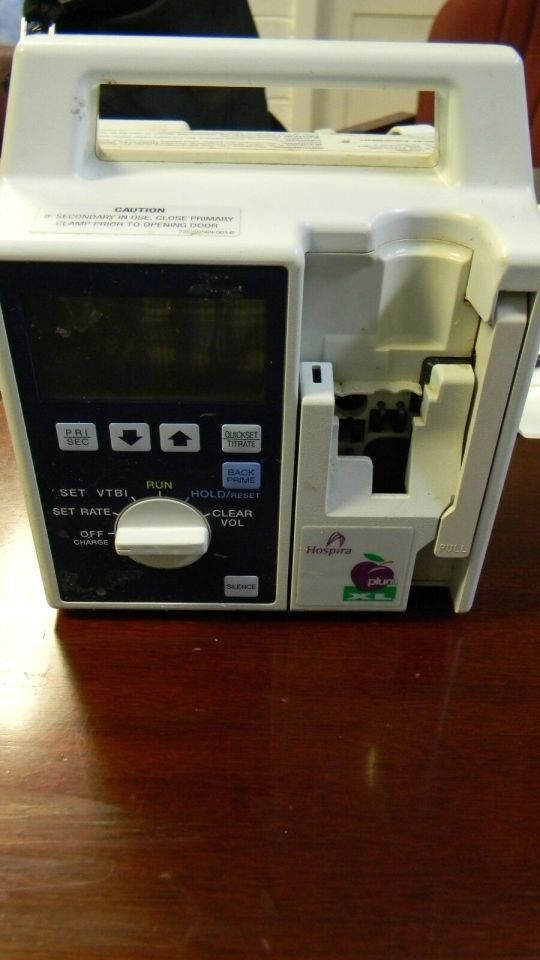plumxl1: (2, 34, 539, 619)
